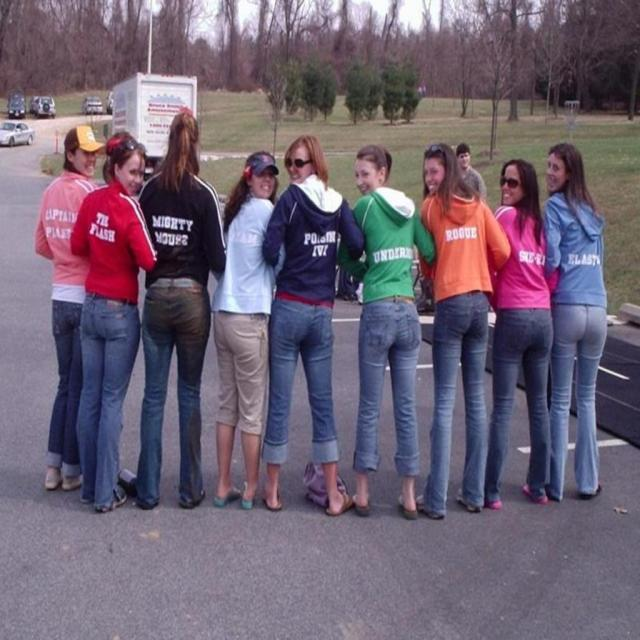car: (35, 96, 55, 117), (8, 96, 24, 118), (81, 96, 101, 112)
